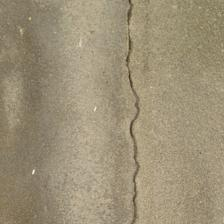Crack: (60, 2, 89, 221)
